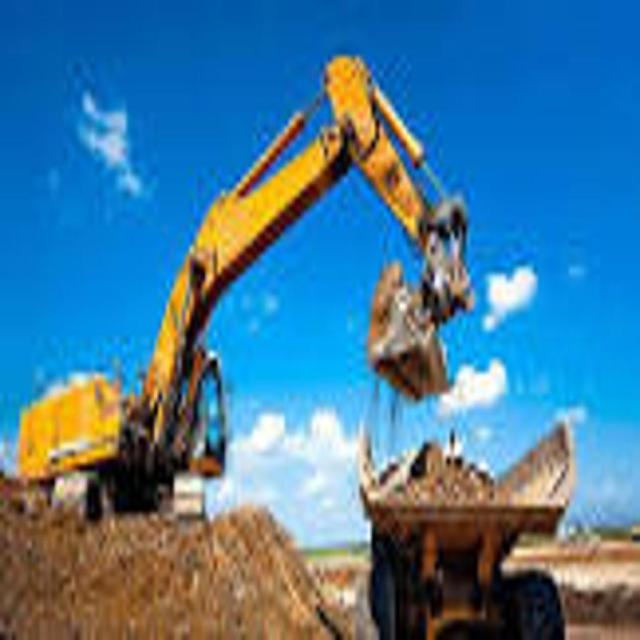dump_truck: (345, 402, 587, 640)
